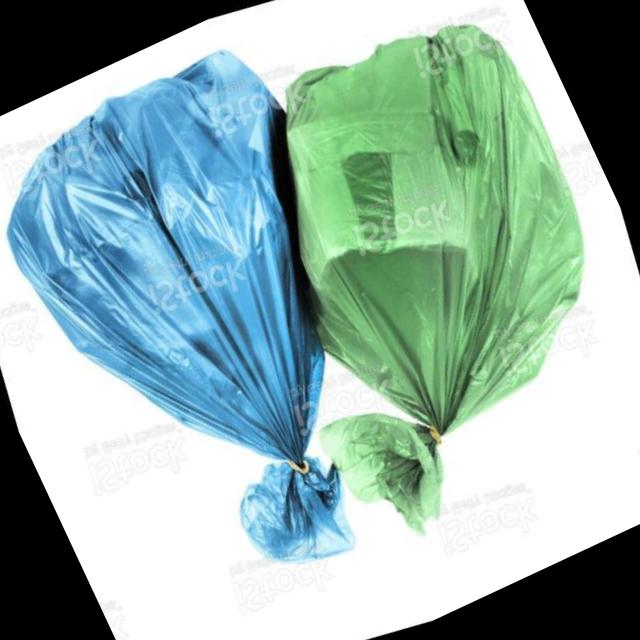KantongPlastik: (0, 33, 467, 631), (174, 0, 640, 560)
